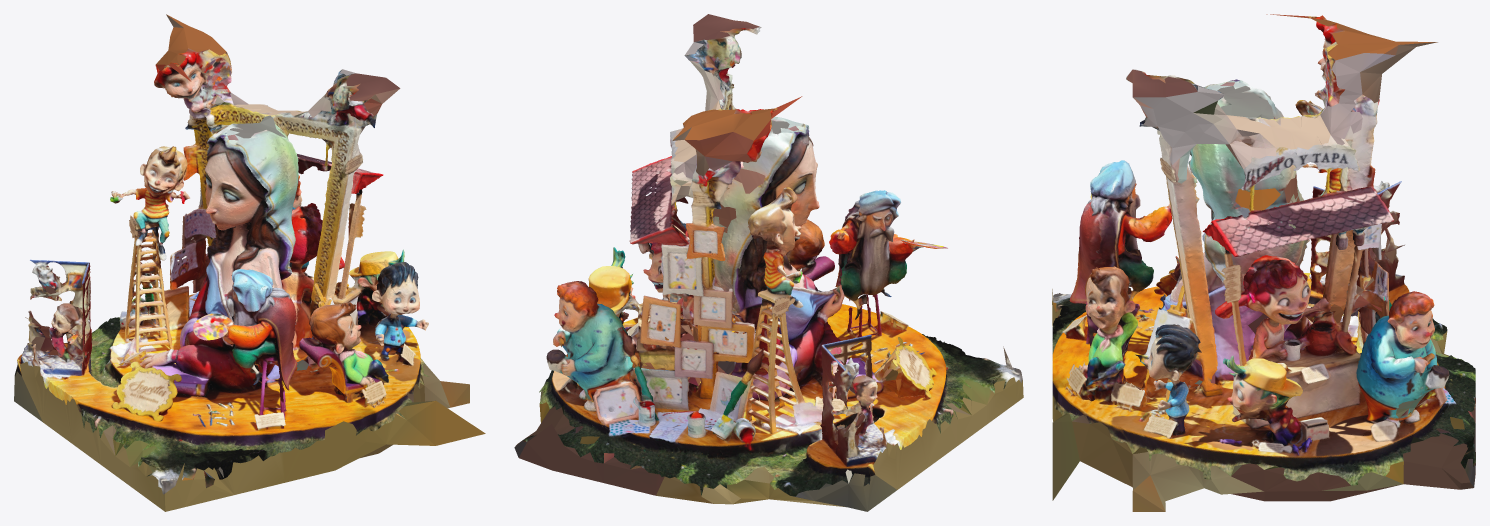
File: falla_infantil_segrelles_2024_-_test_small_ULTRA.glb
3 renders of one model, left to right at view 1: azimuth 30°, elevation 25°; view 2: azimuth 150°, elevation 25°; view 3: azimuth 270°, elevation 25°, orthographic. The views are drawn at different scales.
Bounding box in the file's own units: 2.94 × 2.74 × 2.79.
Materials: 1 (1 with a texture image).
